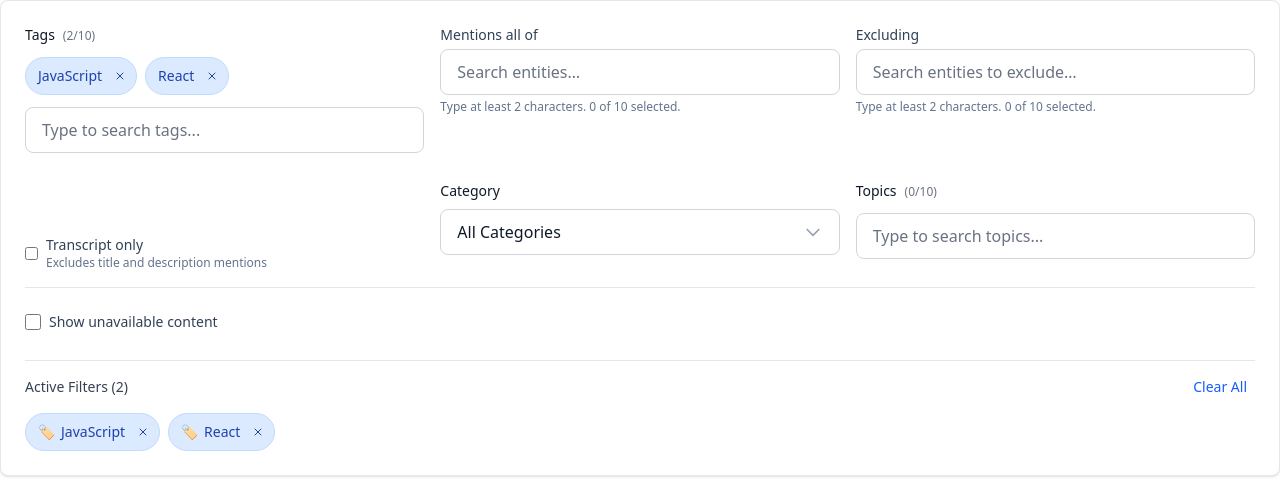
VideoFilters — canonical_tag support (US2) › Canonical tag pill removal › removes the correct canonical_tag pill on remove button click
Expected: the text "JavaScript" below "Tags" is shown, [38, 66, 102, 85]
Expected: the text "React" below "Tags" is shown, [158, 66, 194, 85]
Click the button named "Remove canonical_tag filter: React" at (258, 432), box [246, 420, 270, 444]
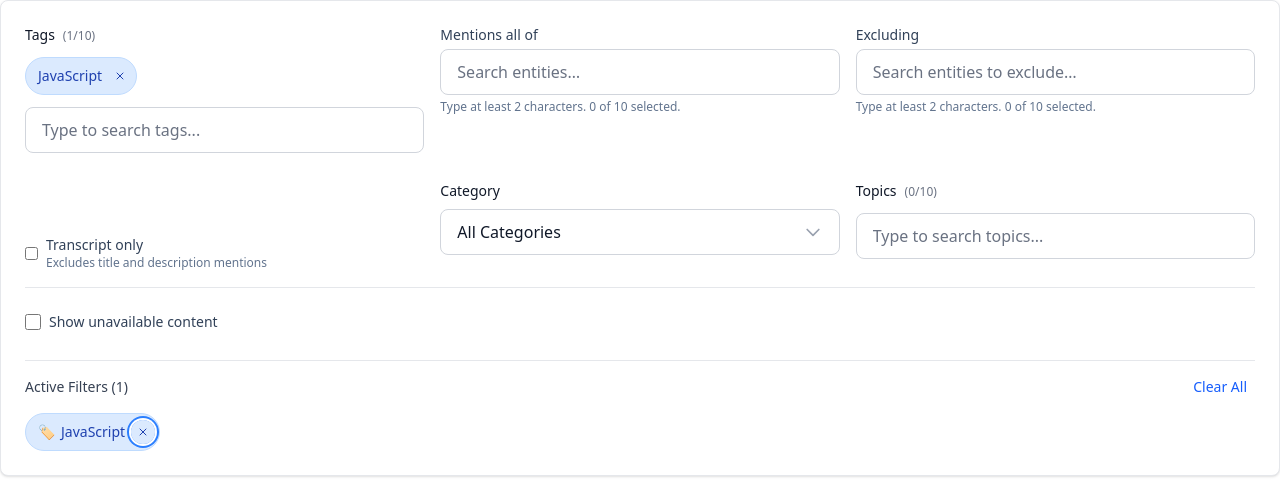
Expected: the text "JavaScript" below "Tags" is shown, [38, 66, 102, 85]
Expected: the heading "Active Filters (1)" is shown, [25, 377, 128, 397]
